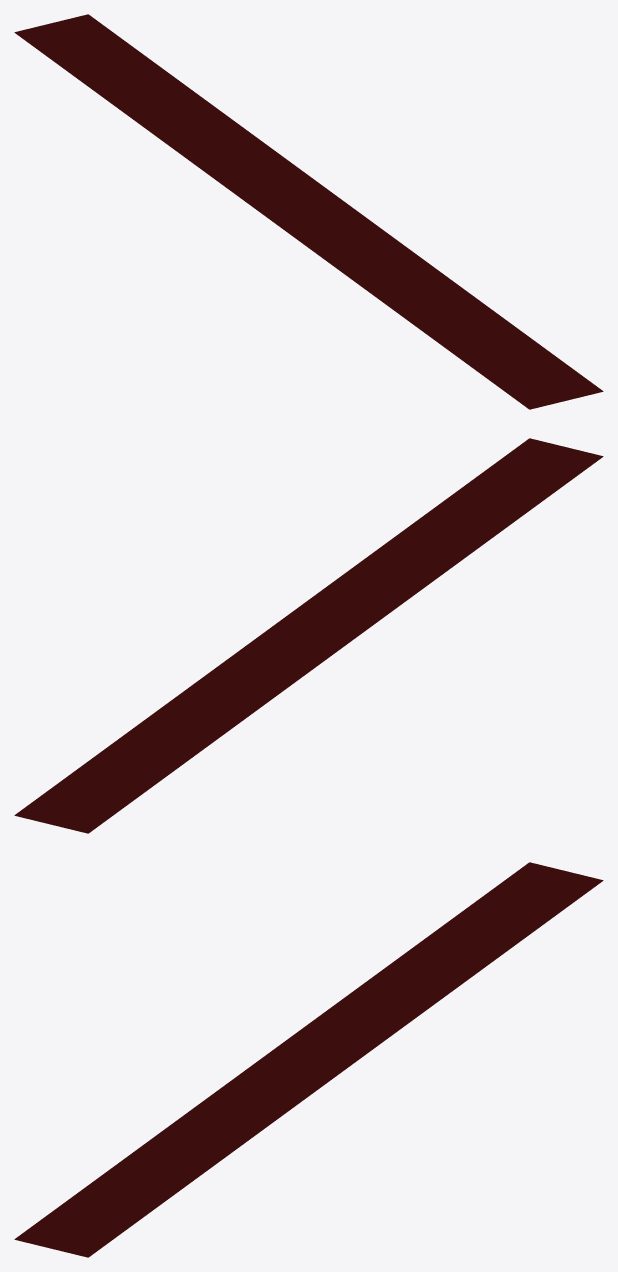
Rendered from corredorchao.glb.
The picture shows the model from 3 angles, top to bottom: view 1: azimuth 30°, elevation 25°; view 2: azimuth 150°, elevation 25°; view 3: azimuth 330°, elevation 25°; orthographic projection.
Parts seen in each view (by area): view 1: Plane.019, Plane.020, Plane.004, Plane.025, Plane.017, Plane.018, Plane.021, Plane.022, Plane.005, Plane.023, Plane.024, Plane.026; view 2: Plane.019, Plane.020, Plane.004, Plane.025, Plane.017, Plane.018, Plane.021, Plane.022, Plane.005, Plane.023, Plane.024, Plane.026; view 3: Plane.019, Plane.020, Plane.004, Plane.025, Plane.017, Plane.018, Plane.021, Plane.022, Plane.005, Plane.023, Plane.024, Plane.026.
Part boxes in pixels (left/top/right/bottom): Plane.019: left=272, top=203, right=388, bottom=252; Plane.020: left=229, top=171, right=345, bottom=220; Plane.004: left=444, top=329, right=560, bottom=378; Plane.025: left=57, top=45, right=173, bottom=94; Plane.017: left=358, top=266, right=474, bottom=315; Plane.018: left=315, top=234, right=431, bottom=283; Plane.021: left=186, top=140, right=302, bottom=189; Plane.022: left=401, top=297, right=517, bottom=346; Plane.005: left=487, top=360, right=603, bottom=409; Plane.023: left=143, top=108, right=259, bottom=157; Plane.024: left=100, top=77, right=216, bottom=126; Plane.026: left=14, top=14, right=130, bottom=63; Plane.019: left=272, top=595, right=388, bottom=644; Plane.020: left=229, top=627, right=345, bottom=676; Plane.004: left=444, top=469, right=560, bottom=518; Plane.025: left=57, top=753, right=173, bottom=802; Plane.017: left=358, top=532, right=474, bottom=581; Plane.018: left=315, top=564, right=431, bottom=613; Plane.021: left=186, top=658, right=302, bottom=707; Plane.022: left=401, top=501, right=517, bottom=550; Plane.005: left=487, top=438, right=603, bottom=487; Plane.023: left=143, top=690, right=259, bottom=739; Plane.024: left=100, top=721, right=216, bottom=770; Plane.026: left=14, top=784, right=130, bottom=833; Plane.019: left=229, top=1051, right=345, bottom=1100; Plane.020: left=272, top=1019, right=388, bottom=1068; Plane.004: left=57, top=1177, right=173, bottom=1226; Plane.025: left=444, top=893, right=560, bottom=942; Plane.017: left=143, top=1114, right=259, bottom=1163; Plane.018: left=186, top=1082, right=302, bottom=1131; Plane.021: left=315, top=988, right=431, bottom=1037; Plane.022: left=100, top=1145, right=216, bottom=1194; Plane.005: left=14, top=1208, right=130, bottom=1257; Plane.023: left=358, top=956, right=474, bottom=1005; Plane.024: left=401, top=925, right=517, bottom=974; Plane.026: left=487, top=862, right=603, bottom=911.
Bounding box in the file's own units: 4 × 0 × 48.
